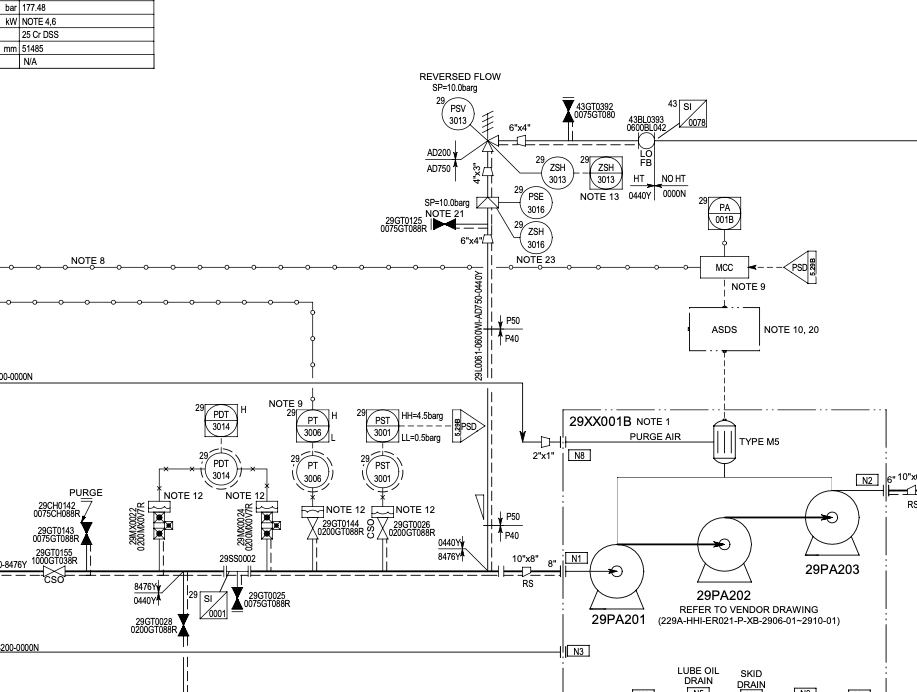Instrument: (283, 450, 333, 491), (195, 451, 246, 491), (430, 94, 481, 131), (508, 183, 554, 219), (534, 152, 574, 190), (359, 453, 400, 490), (512, 221, 557, 254)
Instrument-square: (354, 402, 401, 446), (193, 397, 241, 440), (283, 405, 332, 446), (578, 151, 628, 191), (697, 192, 746, 232)
